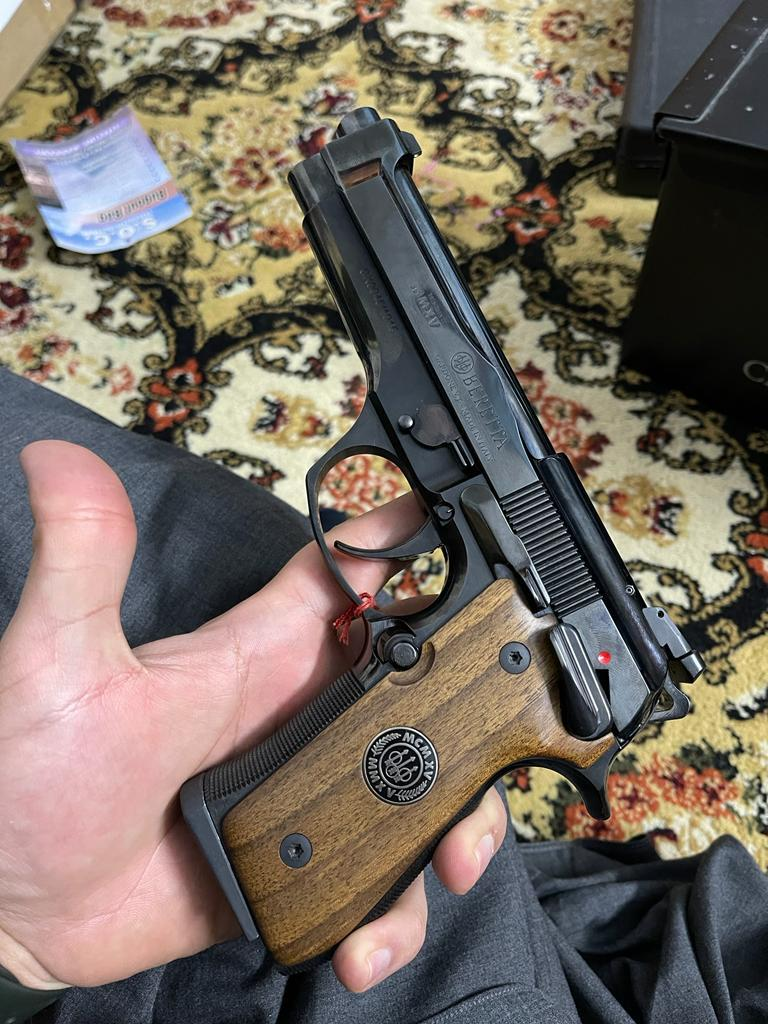weapon: (179, 104, 702, 972)
